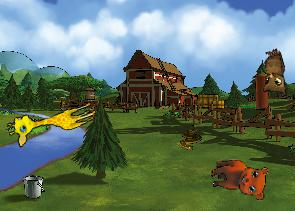bear: (210, 159, 268, 201)
giraffe: (4, 90, 99, 149)
owl: (252, 47, 291, 99)
